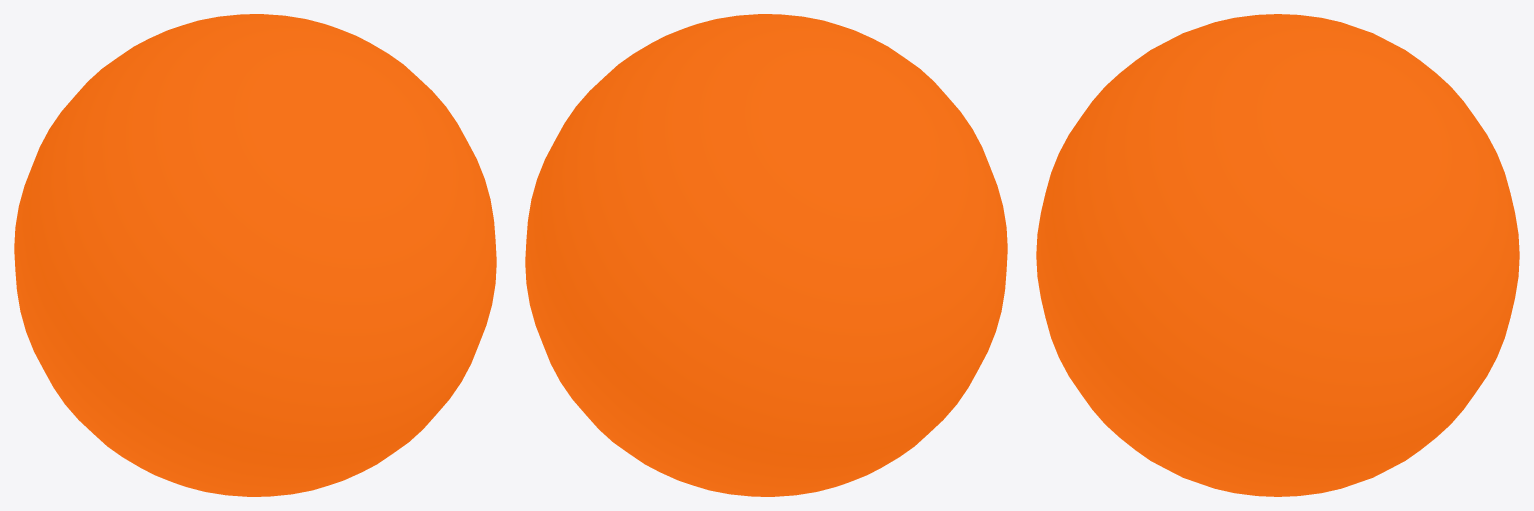
Rendered from desBullet01.glb.
3 views of the same model, side by side, from view 1: azimuth 30°, elevation 25°; view 2: azimuth 150°, elevation 25°; view 3: azimuth 270°, elevation 25° (orthographic).
Visible parts, largest first — view 1: DesBullet; view 2: DesBullet; view 3: DesBullet.
Boxes of the visible parts, <box> form: DesBullet: <box>14,14,496,496</box>; DesBullet: <box>525,14,1007,496</box>; DesBullet: <box>1036,14,1519,496</box>.
Bounding box in the file's own units: 6 × 6 × 6.
